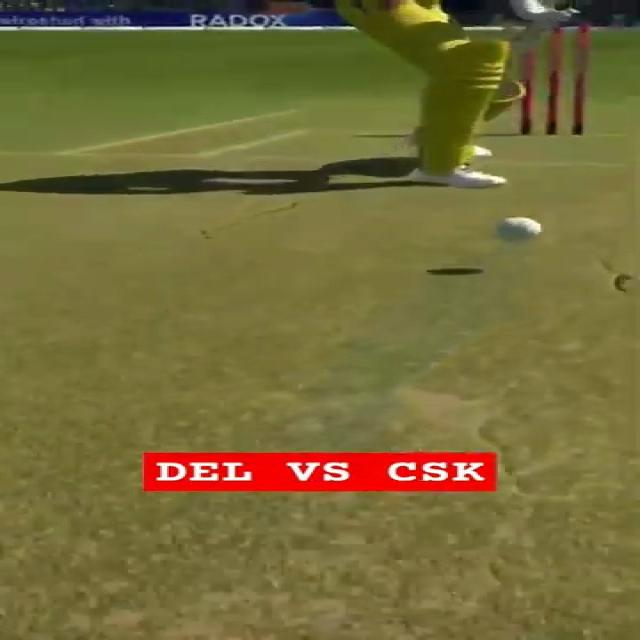ball: (489, 215, 544, 243)
